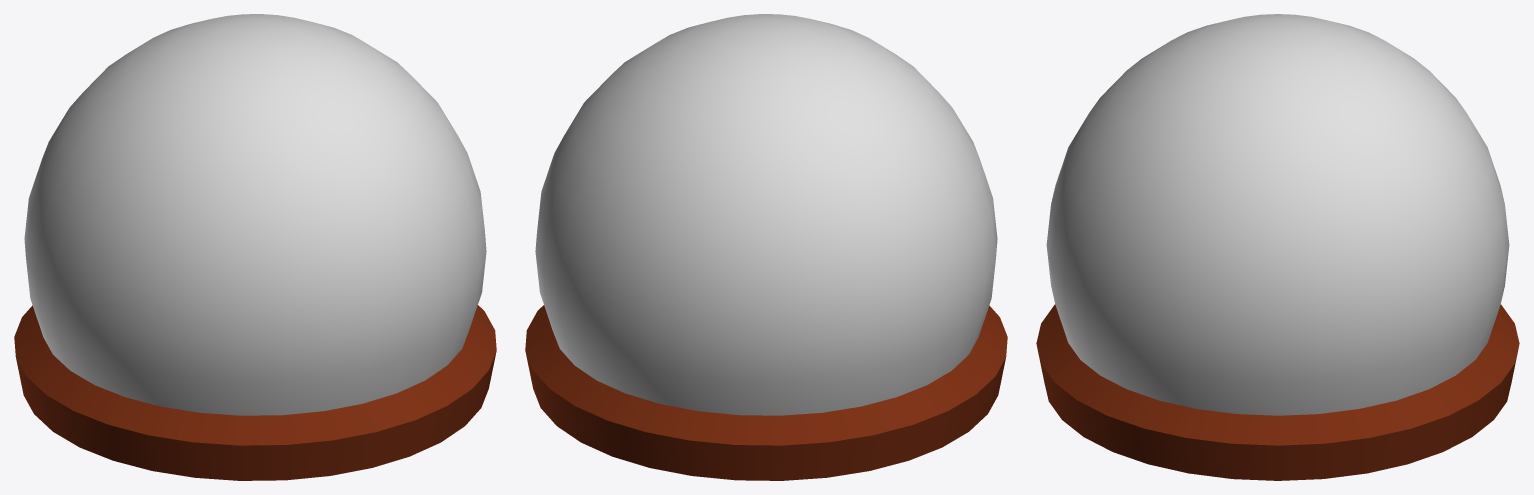
The model's file is Snowglobeattempt.fbx.
The picture shows the model from 3 angles, left to right: view 1: azimuth 30°, elevation 25°; view 2: azimuth 150°, elevation 25°; view 3: azimuth 270°, elevation 25°; orthographic projection.
Parts seen in each view (by area): view 1: Sphere, Base; view 2: Sphere, Base; view 3: Sphere, Base.
Part boxes in pixels (box(x1,y1,x2,y2)): Sphere: box(24, 14, 486, 415); Base: box(14, 305, 496, 480); Sphere: box(535, 14, 997, 415); Base: box(525, 305, 1007, 480); Sphere: box(1046, 14, 1509, 415); Base: box(1036, 304, 1519, 480).
Size of the model in its own units: 209 by 209 by 169.
